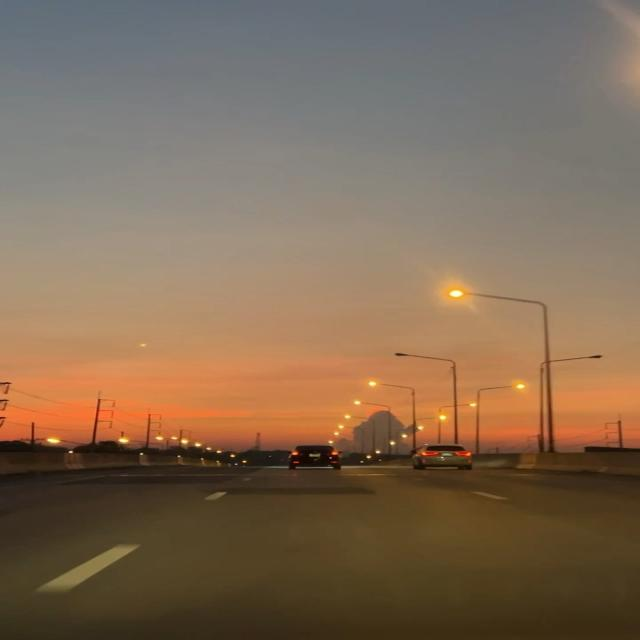Poth-hole: (163, 470, 521, 627)
